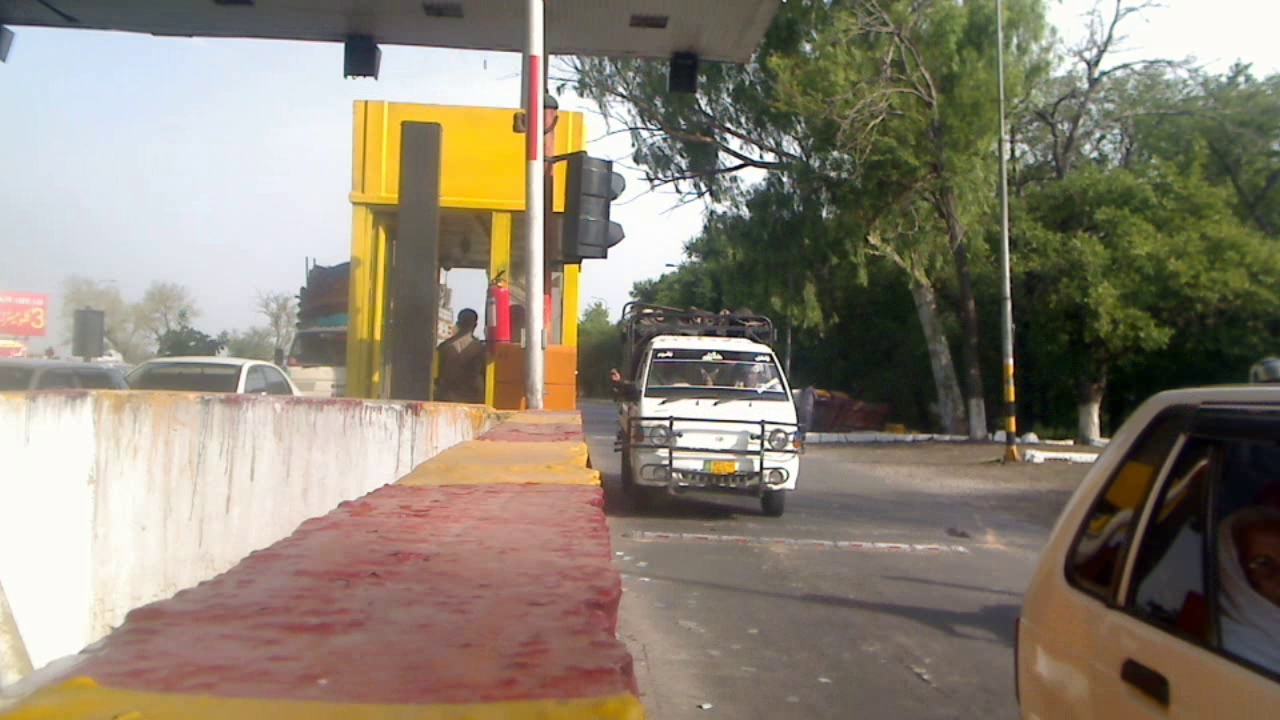Number Plate (Car): (705, 459, 736, 472)
